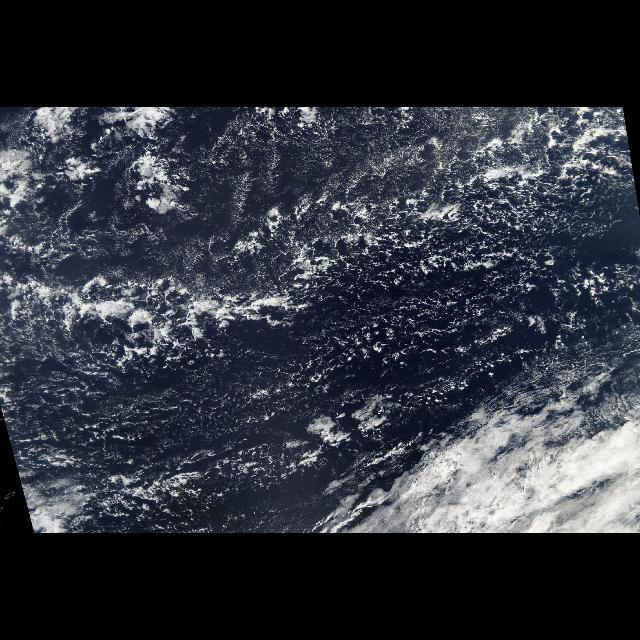Gravel: (5, 110, 639, 524)
